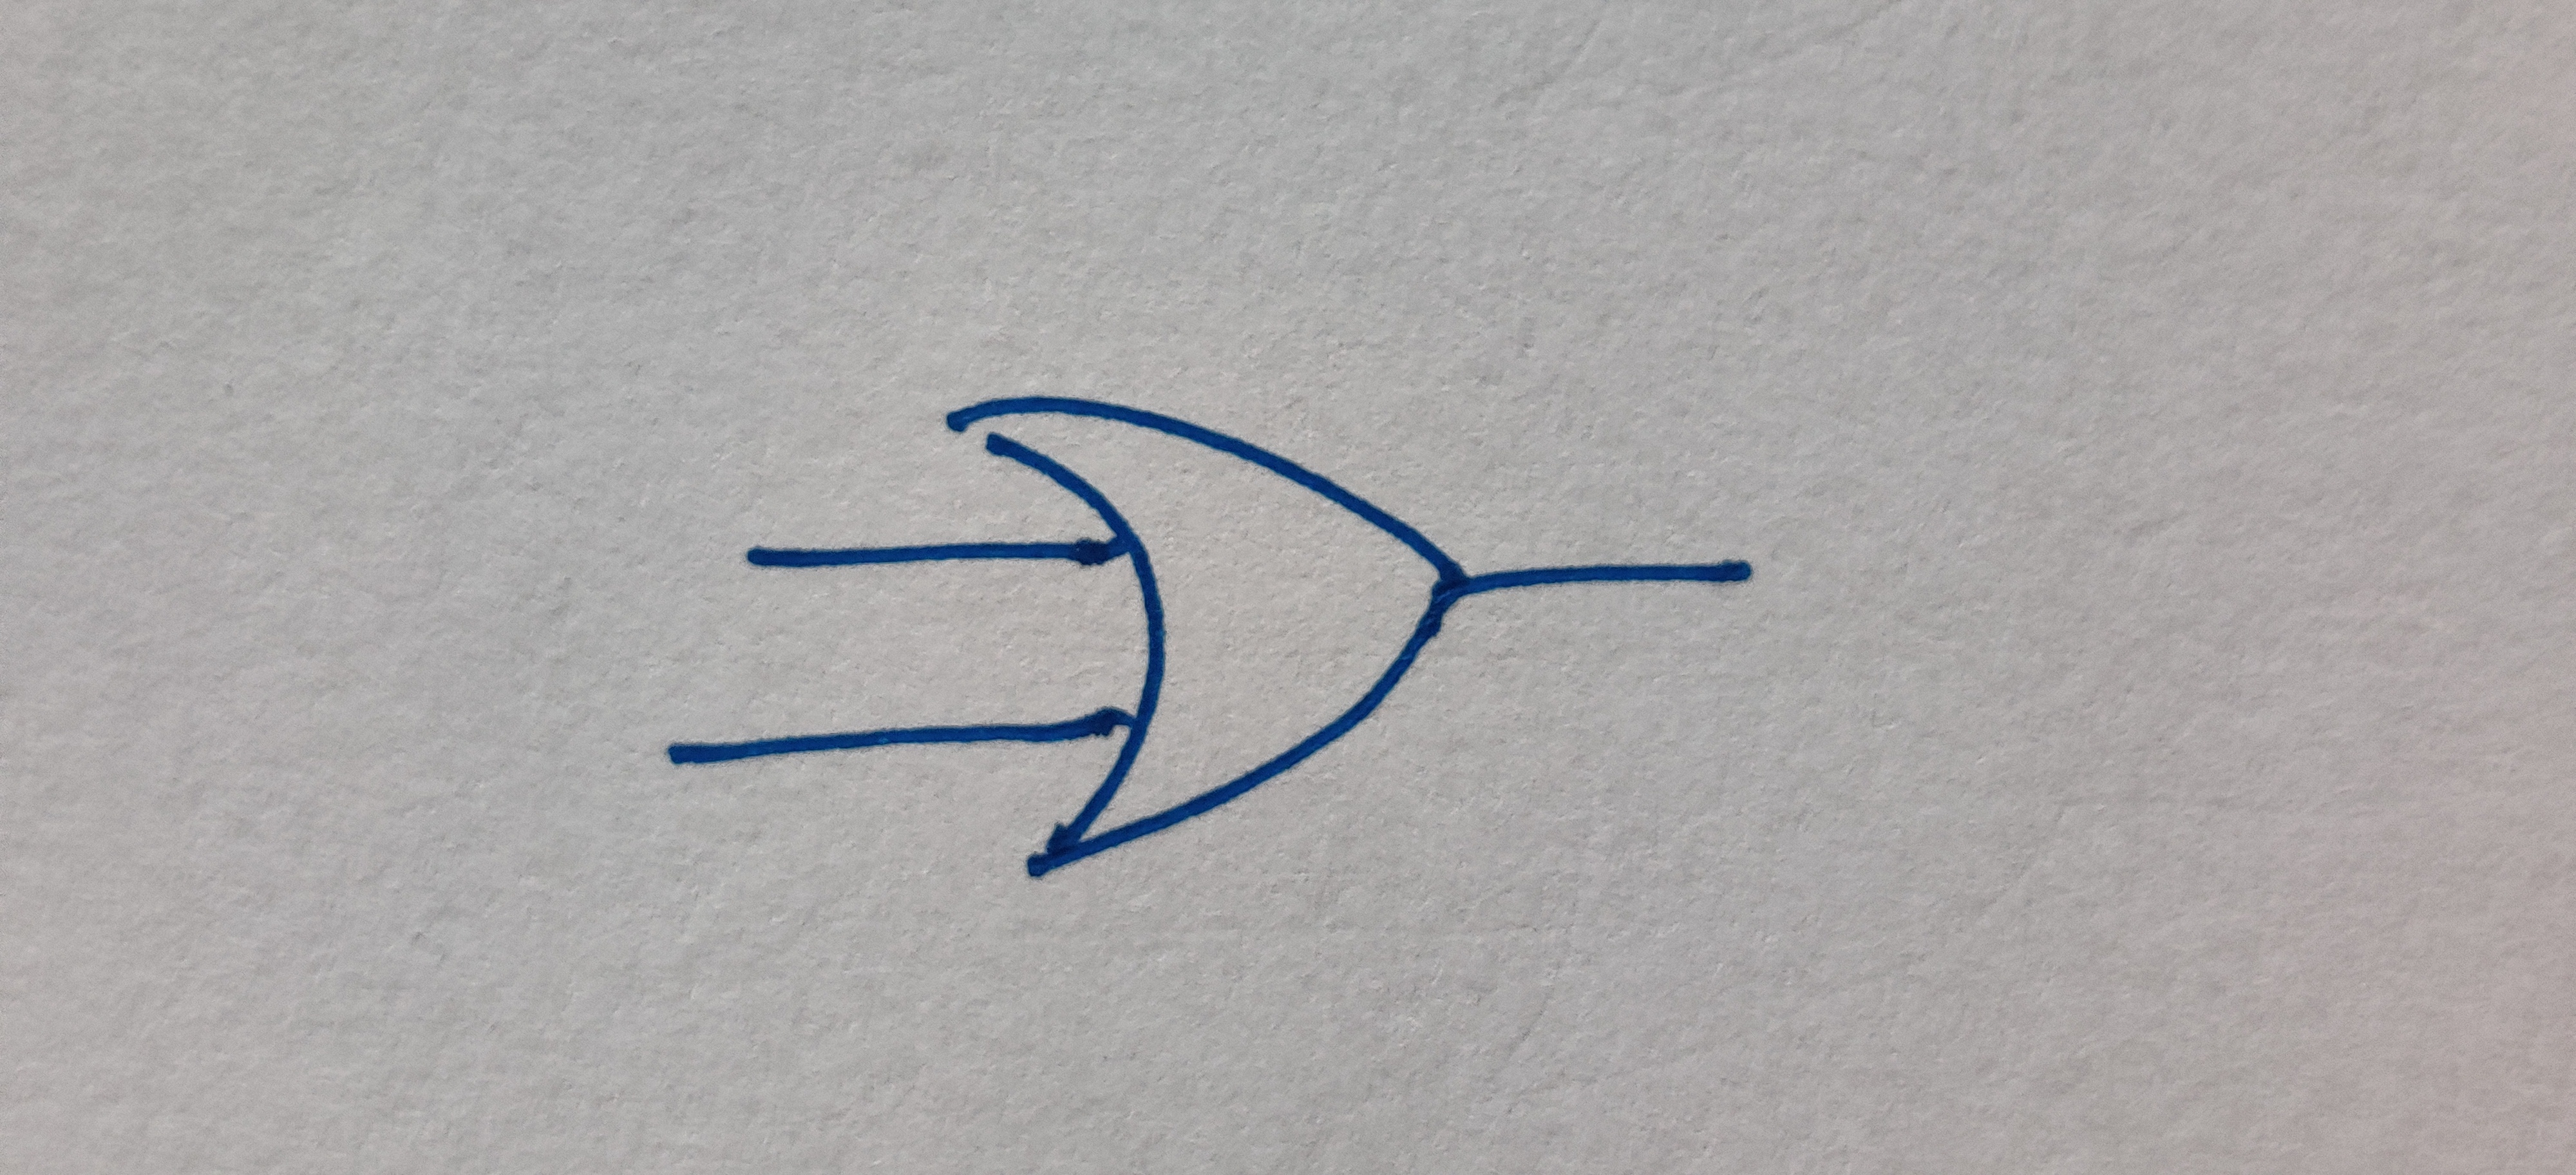or: (958, 399, 1474, 879)
